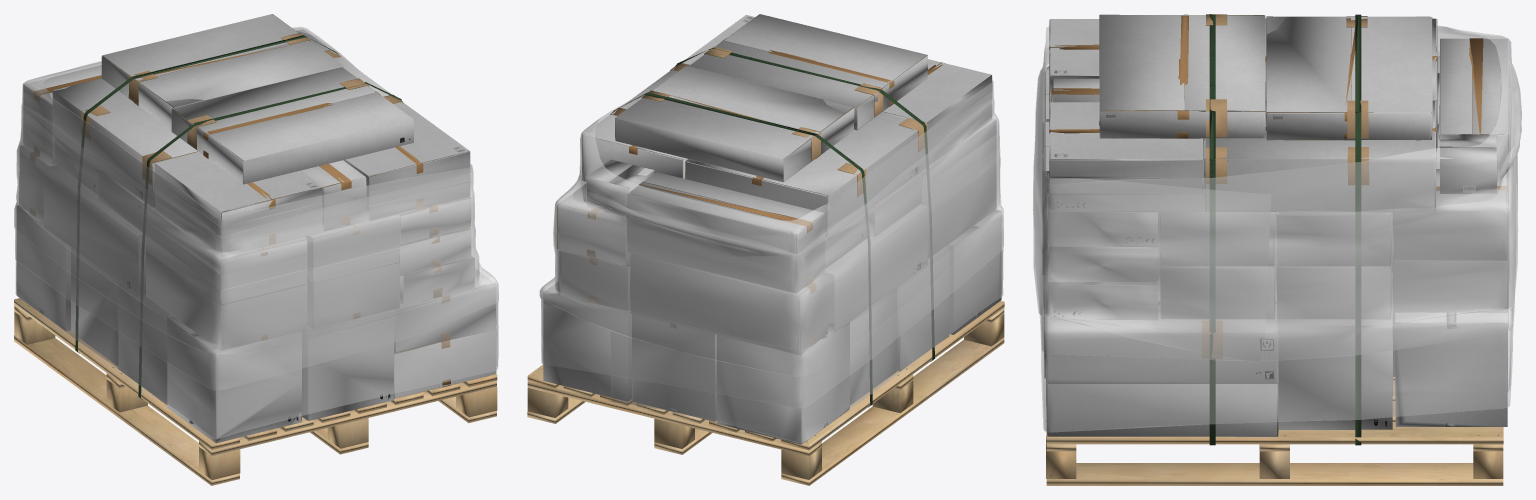
The model's file is load_white.glb.
3 views of the same model, side by side, from view 1: azimuth 30°, elevation 25°; view 2: azimuth 150°, elevation 25°; view 3: azimuth 270°, elevation 25° (orthographic). The views are drawn at different scales.
Visible parts, largest first — view 1: sm_body_e02_mesh_00, sm_stratchfilm_e02_mesh_00; view 2: sm_body_e02_mesh_00, sm_stratchfilm_e02_mesh_00; view 3: sm_body_e02_mesh_00, sm_stratchfilm_e02_mesh_00.
Boxes of the visible parts, left/top/right/bottom form: sm_body_e02_mesh_00: left=14, top=14, right=497, bottom=485; sm_stratchfilm_e02_mesh_00: left=14, top=27, right=498, bottom=438; sm_body_e02_mesh_00: left=527, top=14, right=1004, bottom=485; sm_stratchfilm_e02_mesh_00: left=539, top=80, right=1003, bottom=442; sm_body_e02_mesh_00: left=1042, top=14, right=1509, bottom=485; sm_stratchfilm_e02_mesh_00: left=1033, top=25, right=1521, bottom=432.
Size of the model in its own units: 1.04 by 0.9909 by 1.28.
7 materials, 5 textured.
